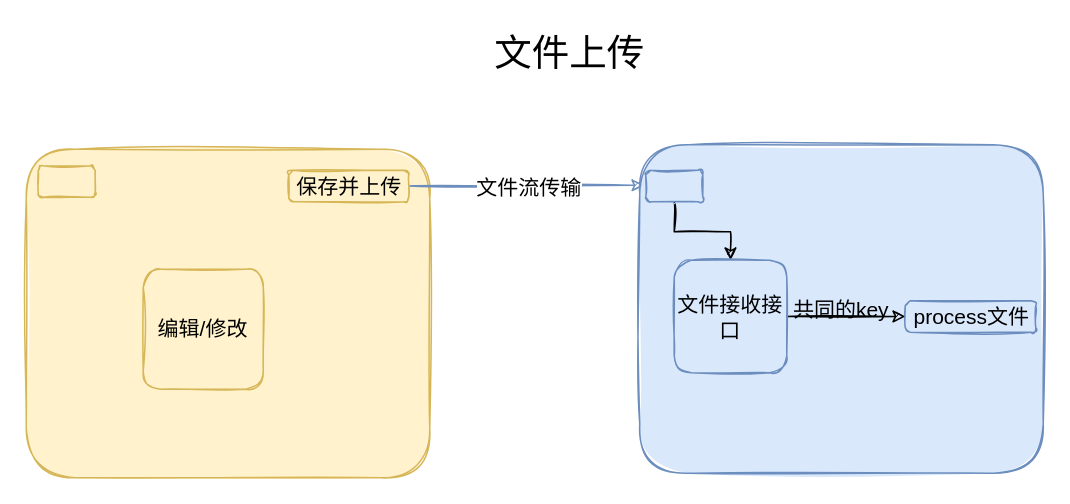
Some shapes in this 1070 by 504 pixel diagram are drawn without their labels. The shapes that lost their labels are listed below. From the top down, each one's centre as x and y in pixels, then its label:
[66,180]: 前端
[673,185]: 后端
